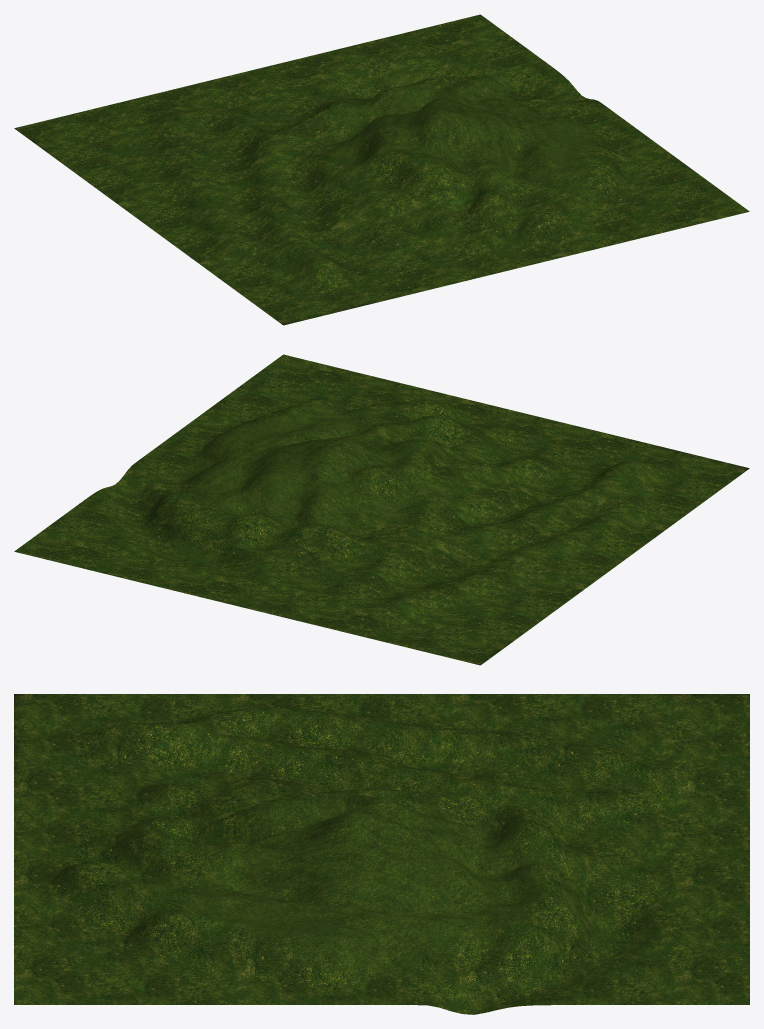
The model's file is terrain.dae.
3 renders of one model, top to bottom at view 1: azimuth 30°, elevation 25°; view 2: azimuth 150°, elevation 25°; view 3: azimuth 270°, elevation 25°, orthographic. The views are drawn at different scales.
Visible parts, largest first — view 1: Plane; view 2: Plane; view 3: Plane.
Boxes of the visible parts, <box> form: Plane: <box>14,14,749,325</box>; Plane: <box>14,354,749,665</box>; Plane: <box>14,694,749,1014</box>.
Size of the model in its own units: 20.01 by 20 by 2.67.
Materials: 1 (1 with a texture image).
